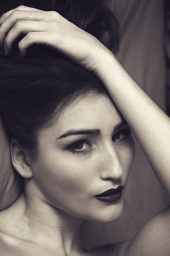female: (30, 83, 146, 229)
